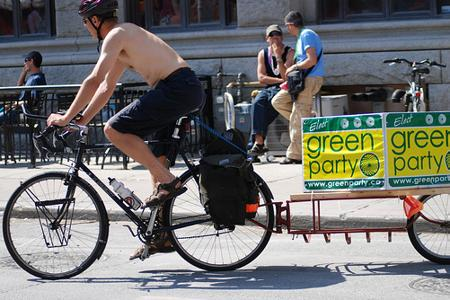person: (47, 1, 204, 254)
